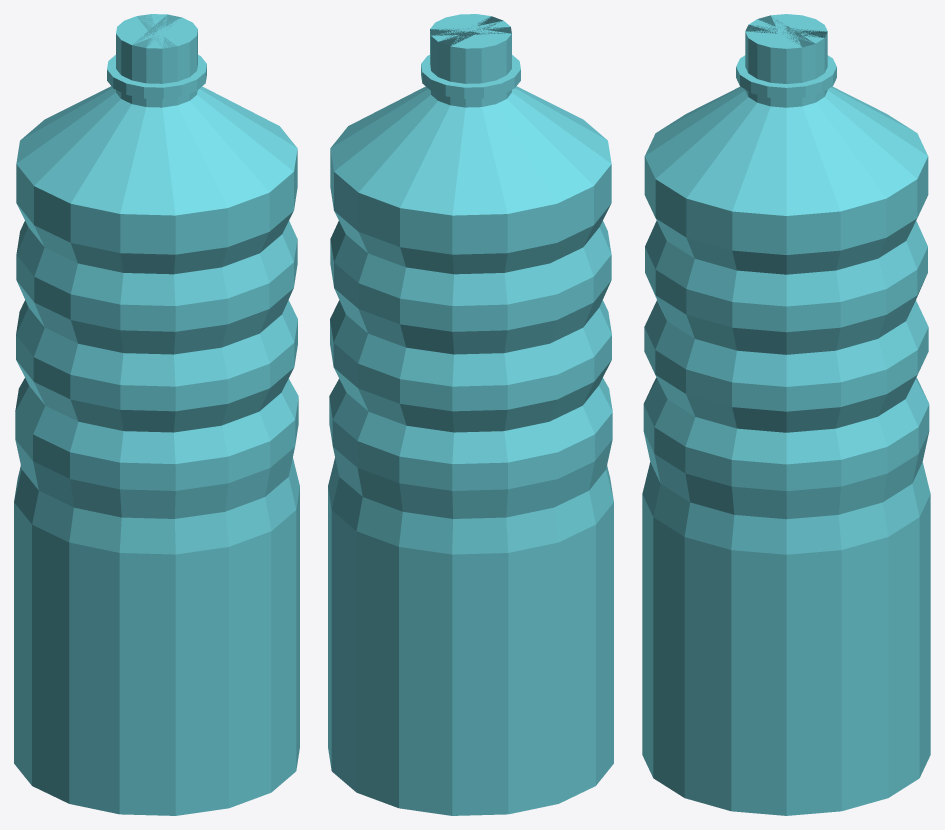
File: Plastic_bottle.fbx
3 views of the same model, side by side, from view 1: azimuth 30°, elevation 25°; view 2: azimuth 150°, elevation 25°; view 3: azimuth 270°, elevation 25° (orthographic).
Visible parts, largest first — view 1: Plane; view 2: Plane; view 3: Plane.
Part boxes in pixels (box(x1,y1,x2,y2)): Plane: box(14, 14, 299, 815); Plane: box(328, 14, 613, 815); Plane: box(642, 14, 930, 815).
Size of the model in its own units: 200 by 554 by 200.
